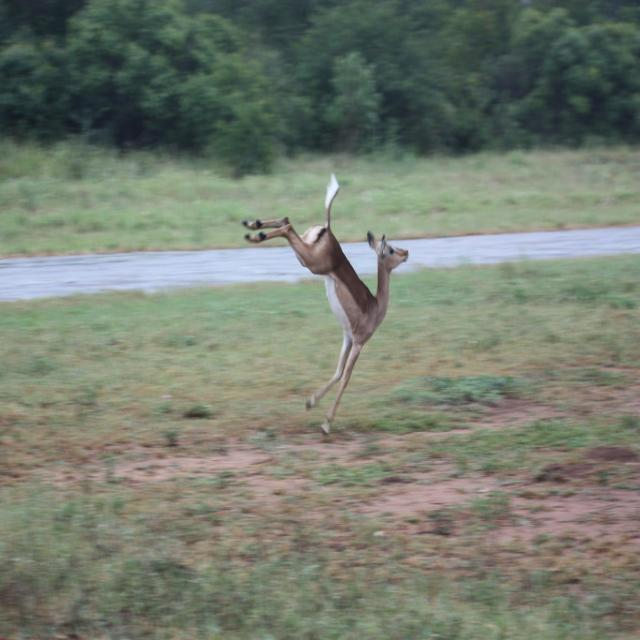Deer: (241, 173, 408, 434)
